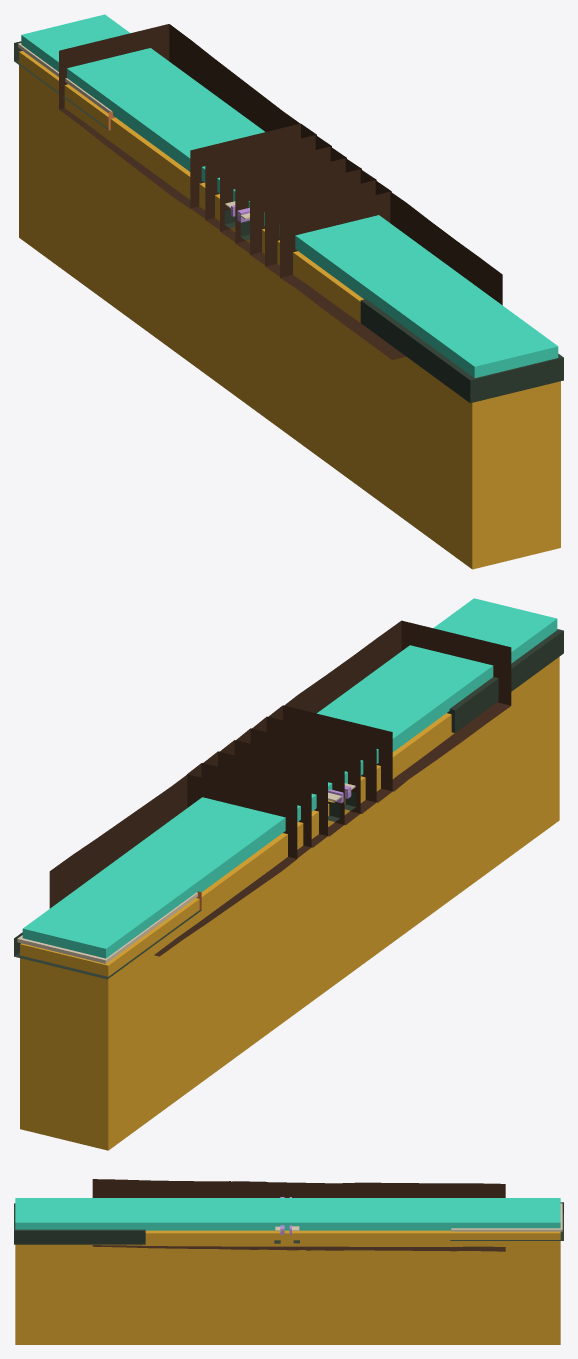
Rendered from zykluscopy.gltf.
3 renders of one model, top to bottom at view 1: azimuth 30°, elevation 25°; view 2: azimuth 150°, elevation 25°; view 3: azimuth 270°, elevation 25°, orthographic. The views are drawn at different scales.
Parts seen in each view (by area): view 1: Cube.002, Cube, Cube.001; view 2: Cube.002, Cube, Cube.001; view 3: Cube.002, Cube.001, Cube.
Boxes of the visible parts, bbox=[...] form: Cube.002: bbox=[19, 51, 560, 569]; Cube: bbox=[14, 24, 563, 403]; Cube.001: bbox=[21, 14, 558, 377]; Cube.002: bbox=[20, 657, 559, 1150]; Cube: bbox=[14, 620, 563, 979]; Cube.001: bbox=[22, 598, 557, 958]; Cube.002: bbox=[15, 1230, 560, 1344]; Cube.001: bbox=[15, 1198, 560, 1230]; Cube: bbox=[14, 1179, 563, 1251].
Bounding box in the file's own units: 4.3 × 7.66 × 28.23.
